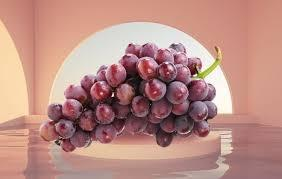Grape Rotten: (40, 42, 220, 152)
